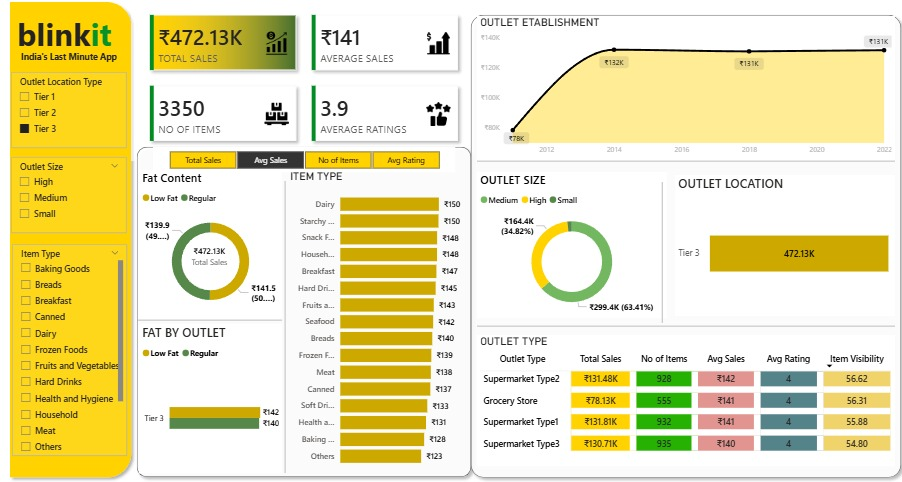

This screenshot's page, from the dashboard's own definition file:
{"tool":"powerbi","page":{"name":"Page 1","canvas":[1400,800],"ordinal":0},"visuals":[{"type":"shape","box":[10,0,205,750],"z":0},{"type":"textbox","box":[26.8,20.5,159.1,75.6],"z":1000},{"type":"textbox","box":[15.7,80.3,190.6,31.5],"z":2000},{"type":"cardVisual","fields":{"Data":["BlinkIT Grocery Data.Total Sales","BlinkIT Grocery Data.Avg Sales","BlinkIT Grocery Data.No of Items","BlinkIT Grocery Data.Avg Rating"]},"box":[206.3,0,532.3,253.5],"z":3000},{"type":"shape","box":[206.3,223.6,532.3,526],"z":4000},{"type":"donutChart","title":"Fat Content","fields":{"Y":["BlinkIT Grocery Data.Total Sales"],"Category":["BlinkIT Grocery Data.Item Fat Content"]},"box":[218.3,268.3,220,230],"z":5000},{"type":"slicer","fields":{"Values":["Metrics 3.Metrics"]},"box":[239.4,233.1,464.6,39.4],"z":6000},{"type":"cardVisual","fields":{"Data":["BlinkIT Grocery Data.Total Sales"]},"box":[268.3,365,118.3,71.7],"z":7000},{"type":"clusteredBarChart","title":"FAT BY OUTLET","fields":{"Y":["BlinkIT Grocery Data.Total Sales"],"Category":["BlinkIT Grocery Data.Outlet Location Type"],"Series":["BlinkIT Grocery Data.Item Fat Content"]},"box":[218.9,503.9,220.5,229.9],"z":8000},{"type":"shape","box":[216.7,455,221.7,86.7],"z":9000},{"type":"shape","box":[434.6,285,15.7,448.8],"z":10000},{"type":"barChart","title":"ITEM TYPE","fields":{"Y":["BlinkIT Grocery Data.Total Sales"],"Category":["BlinkIT Grocery Data.Item Type"]},"box":[445.7,267.7,274,466.1],"z":11000},{"type":"shape","box":[720,20,680,730],"z":12000},{"type":"lineChart","title":"OUTLET ETABLISHMENT","fields":{"Y":["BlinkIT Grocery Data.Total Sales"],"Category":["BlinkIT Grocery Data.Outlet Establishment Year"]},"box":[738.3,30,643.3,223.3],"z":13000},{"type":"donutChart","title":"OUTLET SIZE","fields":{"Y":["BlinkIT Grocery Data.Total Sales"],"Category":["BlinkIT Grocery Data.Outlet Size"]},"box":[738.3,270,291.7,225],"z":14000},{"type":"shape","box":[1016.7,286.7,13.3,216.7],"z":15000},{"type":"funnel","title":"OUTLET LOCATION","fields":{"Category":["BlinkIT Grocery Data.Outlet Location Type"],"Y":["Sum(BlinkIT Grocery Data.Sales)"]},"box":[1043.3,275,338.3,216.7],"z":16000},{"type":"shape","box":[738.3,465,643.3,86.7],"z":17000},{"type":"pivotTable","title":"OUTLET TYPE","fields":{"Rows":["BlinkIT Grocery Data.Outlet Type"],"Values":["BlinkIT Grocery Data.Total Sales","BlinkIT Grocery Data.No of Items","BlinkIT Grocery Data.Avg Sales","BlinkIT Grocery Data.Avg Rating","Sum(BlinkIT Grocery Data.Item Visibility)"]},"box":[738.3,521.7,643.3,201.7],"z":18000},{"type":"shape","box":[738.3,210,643.3,86.7],"z":19000},{"type":"slicer","fields":{"Values":["BlinkIT Grocery Data.Outlet Location Type"]},"box":[21.7,116.7,178.3,116.7],"z":20000},{"type":"slicer","fields":{"Values":["BlinkIT Grocery Data.Outlet Size"]},"box":[21.7,248.3,178.3,116.7],"z":21000},{"type":"slicer","fields":{"Values":["BlinkIT Grocery Data.Item Type"]},"box":[23.3,381.7,176.7,341.7],"z":22000}]}

Visuals, with their boxes on the page's 1400x800 design canvas (x1, y1, x2, y2). These are canvas units, not pixel positions in the 902x482 screenshot, which may show the page scaled, cropped or inside an application window:
shape: <box>10,0,215,750</box>
textbox: <box>27,20,186,96</box>
textbox: <box>16,80,206,112</box>
cardVisual - BlinkIT Grocery Data.Total Sales x BlinkIT Grocery Data.Avg Sales: <box>206,0,739,254</box>
shape: <box>206,224,739,750</box>
"Fat Content" donutChart: <box>218,268,438,498</box>
slicer - Metrics 3.Metrics: <box>239,233,704,272</box>
cardVisual - BlinkIT Grocery Data.Total Sales: <box>268,365,387,437</box>
"FAT BY OUTLET" clusteredBarChart: <box>219,504,439,734</box>
shape: <box>217,455,438,542</box>
shape: <box>435,285,450,734</box>
"ITEM TYPE" barChart: <box>446,268,720,734</box>
shape: <box>720,20,1400,750</box>
"OUTLET ETABLISHMENT" lineChart: <box>738,30,1382,253</box>
"OUTLET SIZE" donutChart: <box>738,270,1030,495</box>
shape: <box>1017,287,1030,503</box>
"OUTLET LOCATION" funnel: <box>1043,275,1382,492</box>
shape: <box>738,465,1382,552</box>
"OUTLET TYPE" pivotTable: <box>738,522,1382,723</box>
shape: <box>738,210,1382,297</box>
slicer - BlinkIT Grocery Data.Outlet Location Type: <box>22,117,200,233</box>
slicer - BlinkIT Grocery Data.Outlet Size: <box>22,248,200,365</box>
slicer - BlinkIT Grocery Data.Item Type: <box>23,382,200,723</box>
